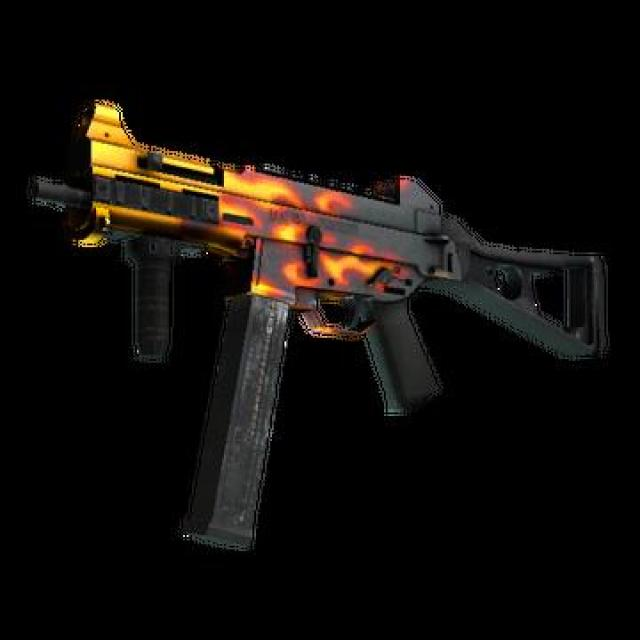Gun: (13, 73, 623, 564)
